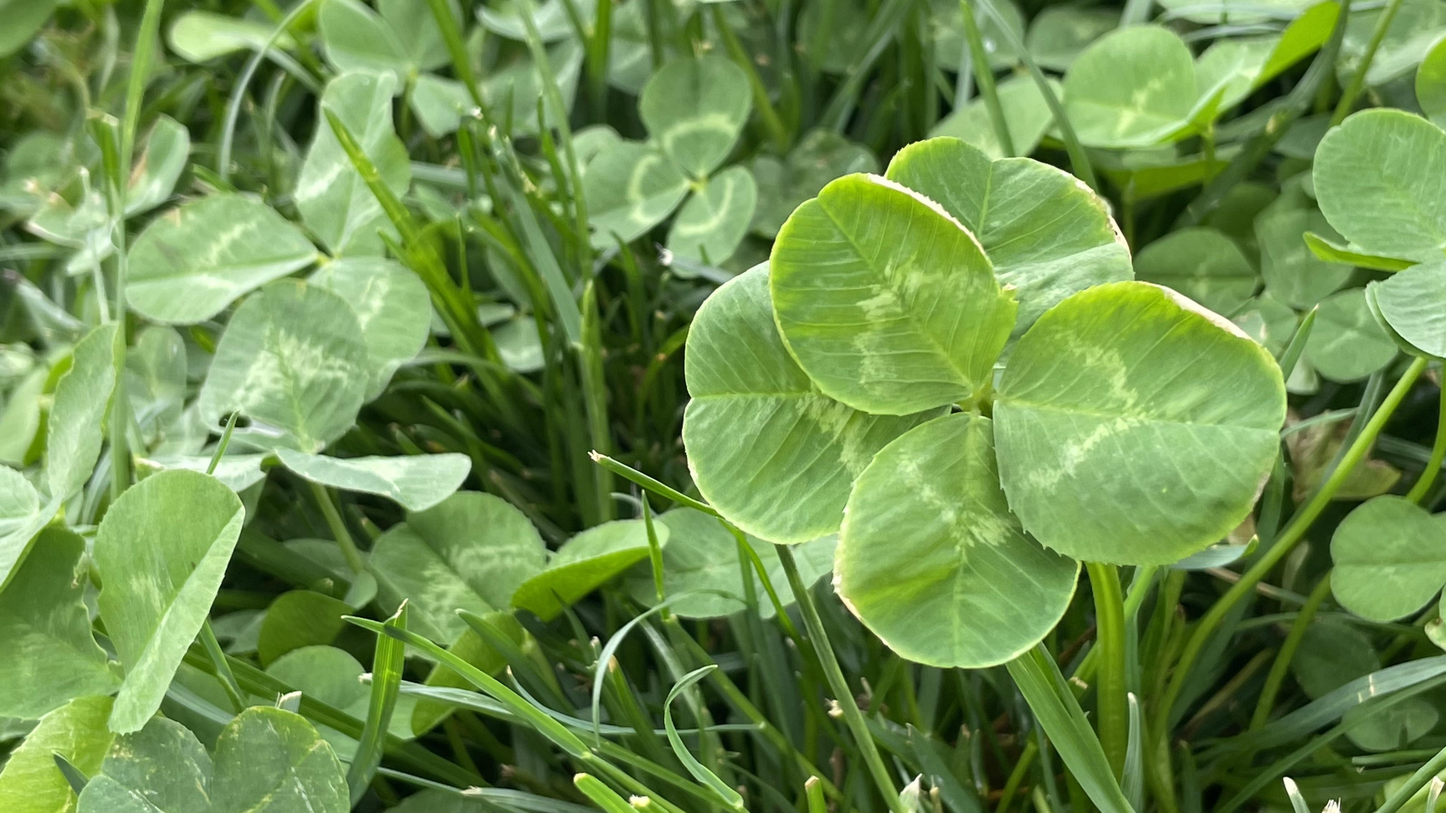5-Leaf-Clovers: (682, 139, 1285, 670)
